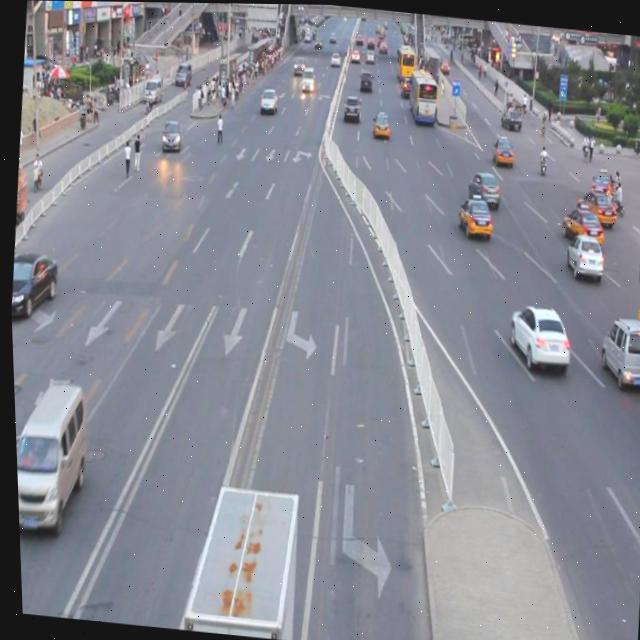bus: (171, 477, 300, 640)
car: (503, 299, 570, 370), (7, 247, 58, 322), (592, 311, 640, 384), (560, 229, 602, 277), (556, 202, 602, 243), (454, 192, 492, 237), (339, 633, 419, 640)
truck: (11, 377, 90, 534)
van: (626, 243, 640, 370)
